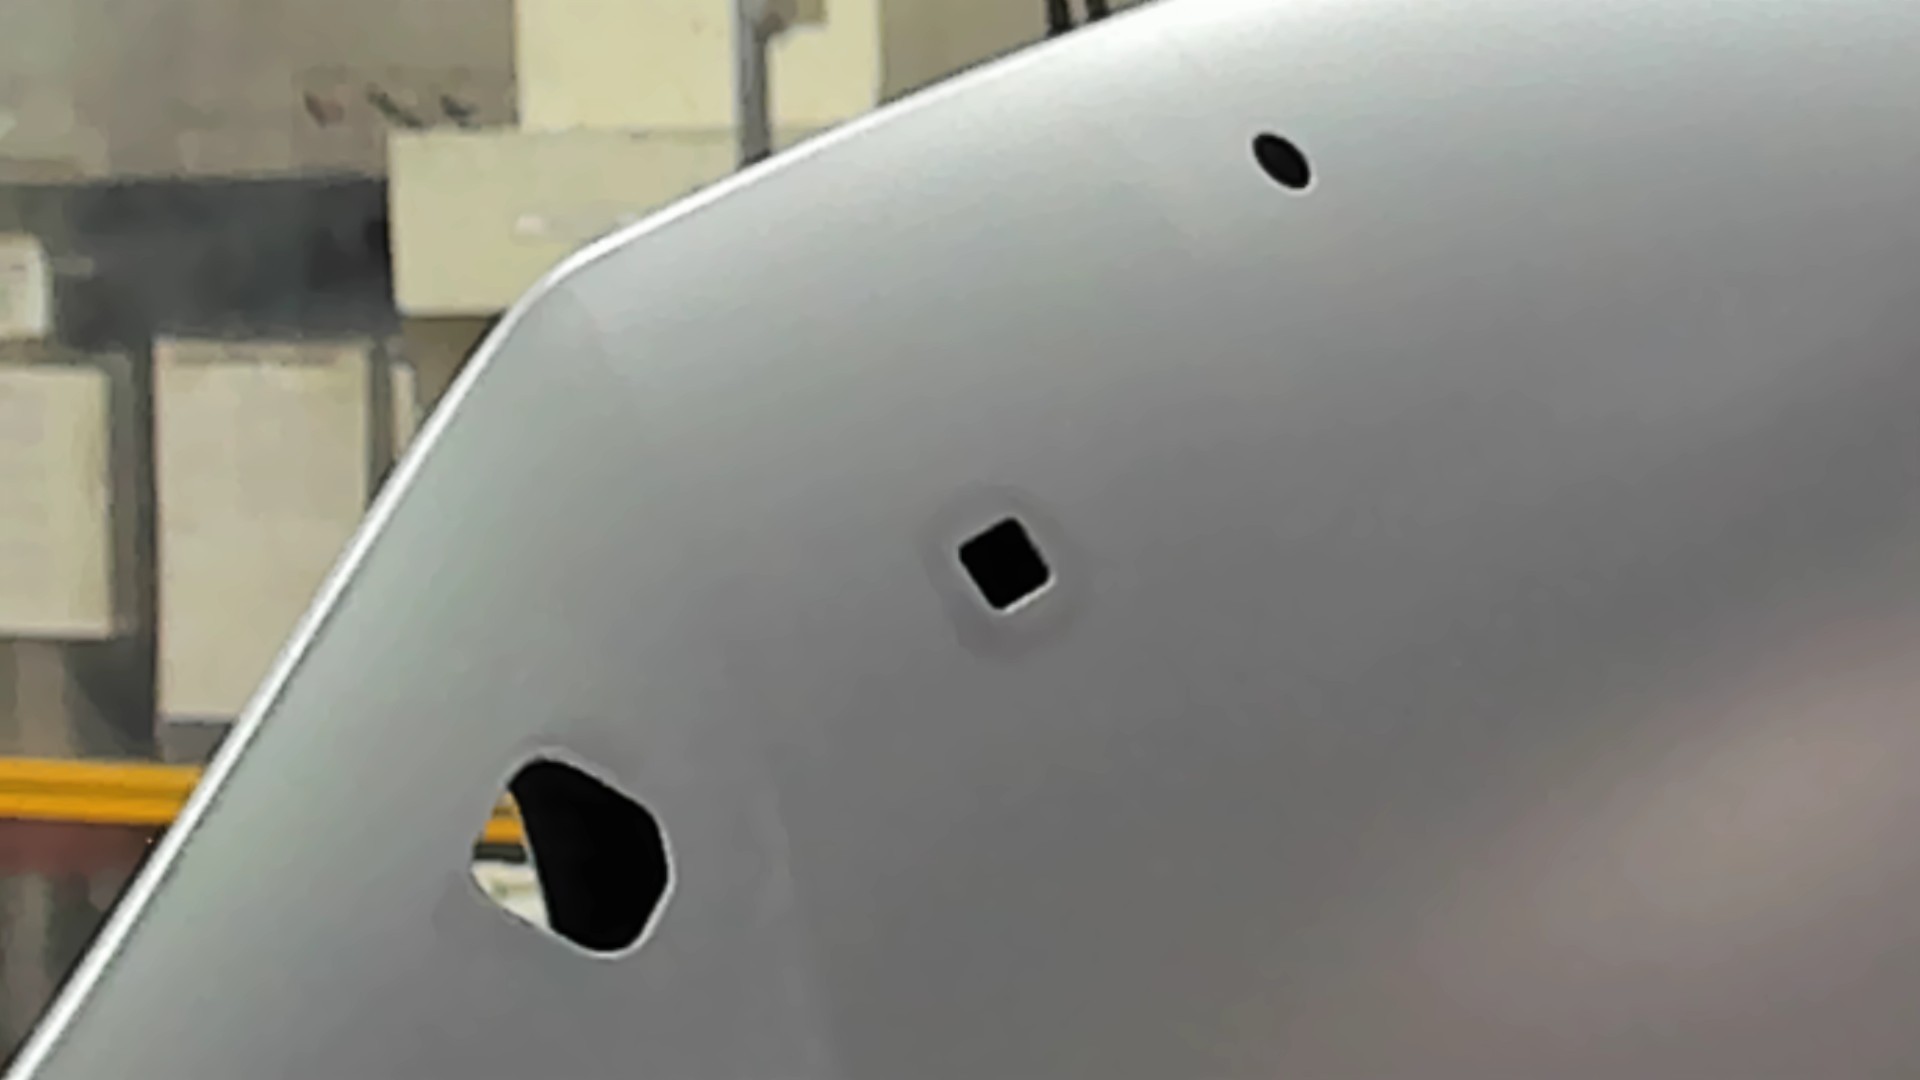chico: (1244, 123, 1316, 195)
grande: (463, 749, 679, 969)
mediano: (945, 510, 1062, 618)
